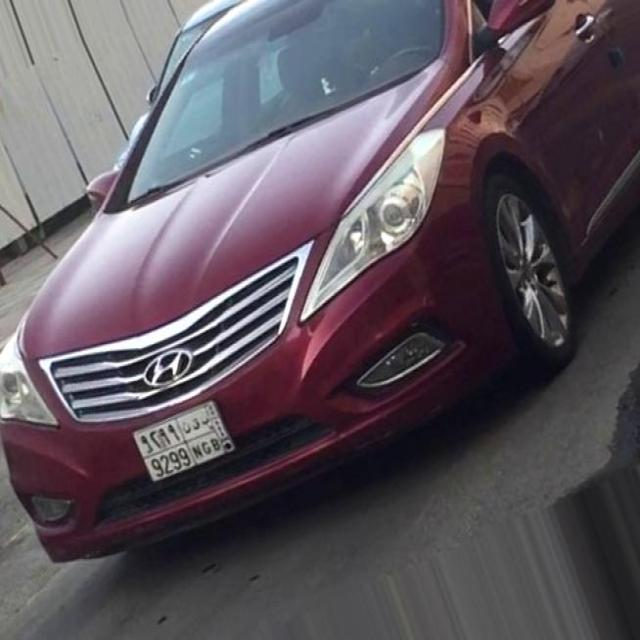Car-plate: (123, 388, 248, 498)
